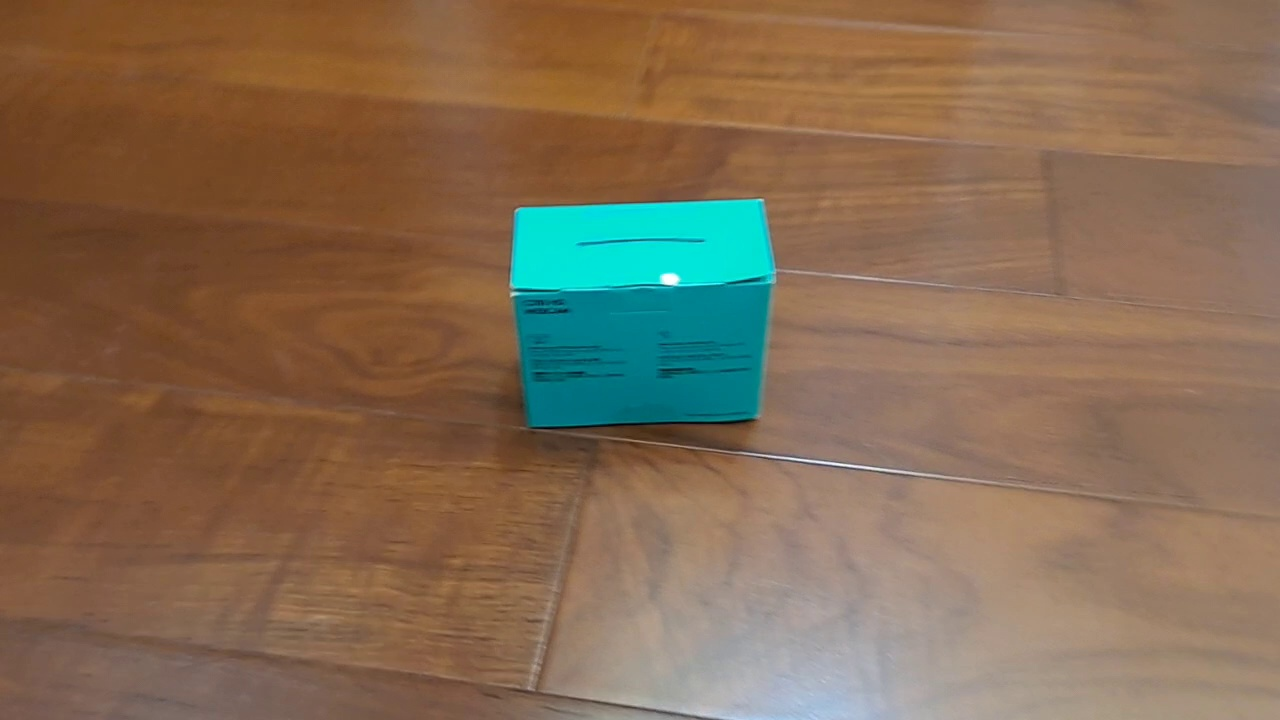webcam: (507, 196, 778, 431)
